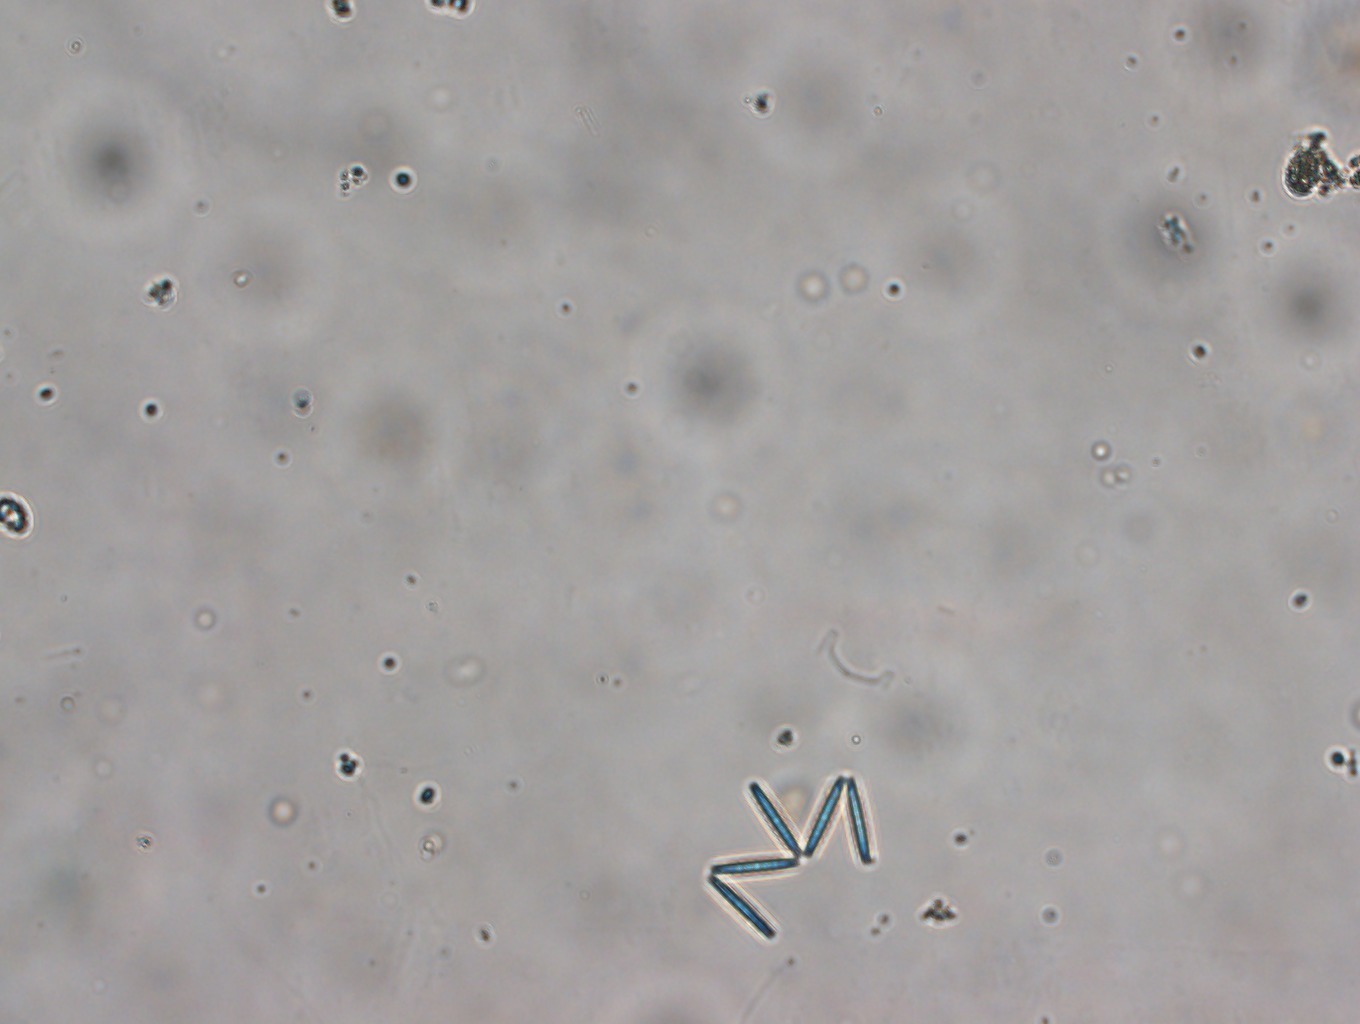thalassionema nitzschioides: (703, 770, 873, 942)
